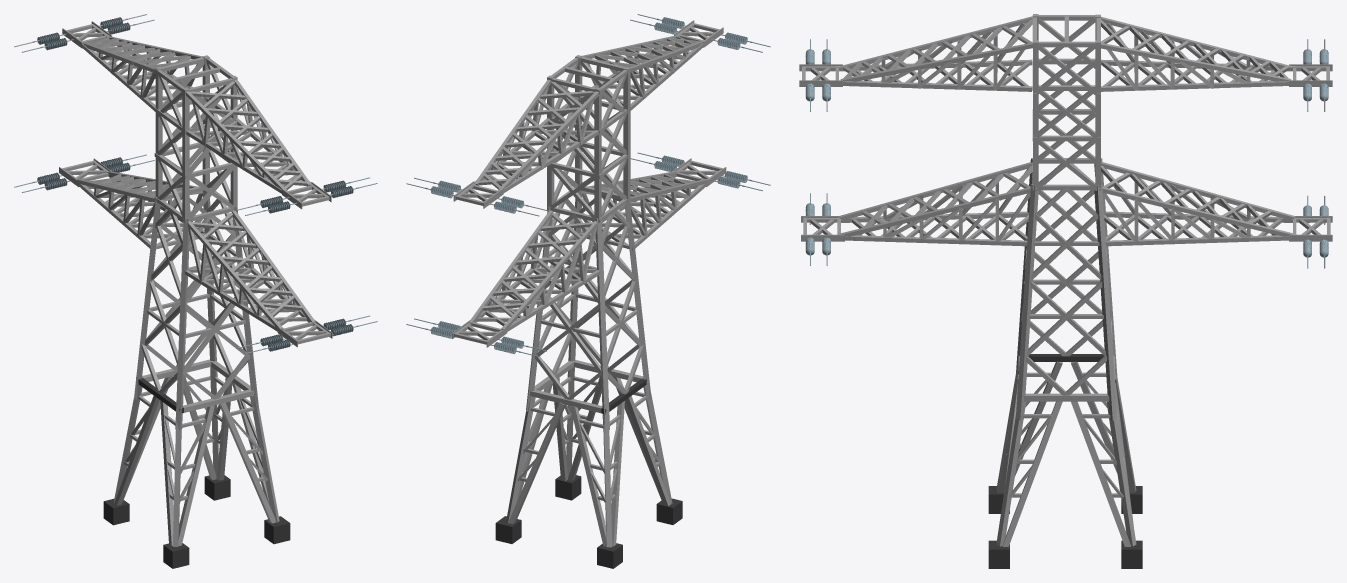
File: bashnya.fbx
3 views of the same model, side by side, from view 1: azimuth 30°, elevation 25°; view 2: azimuth 150°, elevation 25°; view 3: azimuth 270°, elevation 25° (orthographic). The views are drawn at different scales.
Visible parts, largest first — view 1: Cylinder.028; view 2: Cylinder.028; view 3: Cylinder.028.
Part boxes in pixels (bbox=[...]): Cylinder.028: bbox=[14, 14, 377, 568]; Cylinder.028: bbox=[406, 14, 770, 568]; Cylinder.028: bbox=[799, 14, 1332, 568].
Size of the model in its own units: 306 by 1008 by 959.
